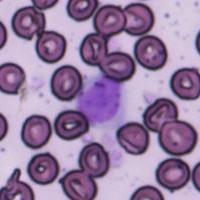L: (76, 73, 127, 127)
